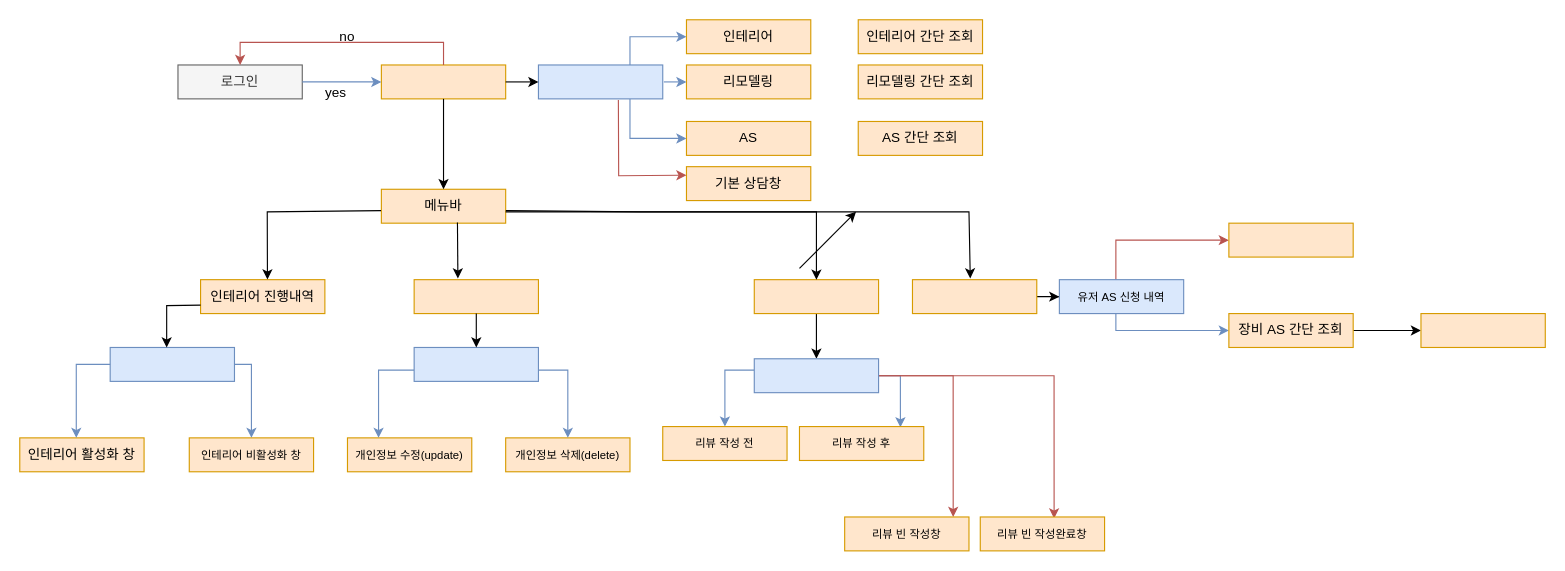
Some shapes in this 1565 by 571 pixel diagram are drawn without their labels. Here are the shapes that lost their labels. From the top down, the centre of each, then its label:
At point (443, 81): "마이페이지 상담".
At point (600, 81): "유저 사용내역 존재".
At point (1290, 239): "기본 장비 AS창".
At point (475, 296): "개인정보 수정".
At point (816, 296): "리뷰 관리".
At point (974, 296): "장비 AS 조회".
At point (1482, 329): "장비 AS 상세 조회".
At point (171, 363): "유저 인테리어 데이터 존재".
At point (475, 363): "유저 개인 데이터 존재".
At point (816, 375): "유저 리뷰 데이터 존재".
